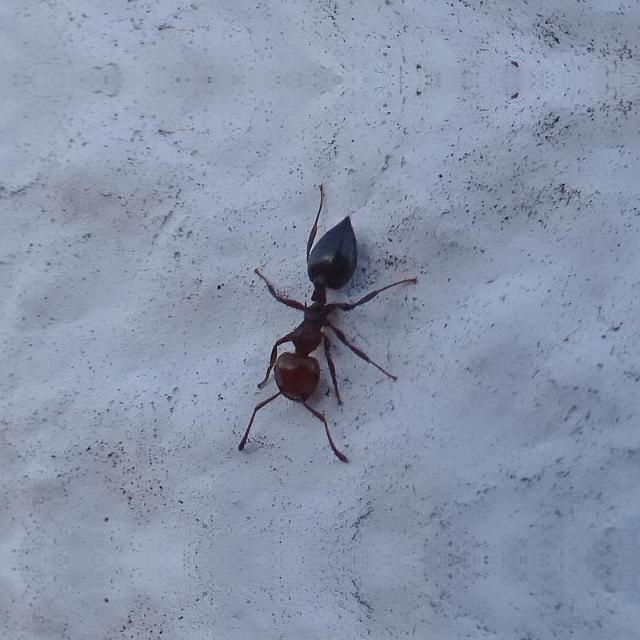Crematogaster: (247, 210, 366, 418)
